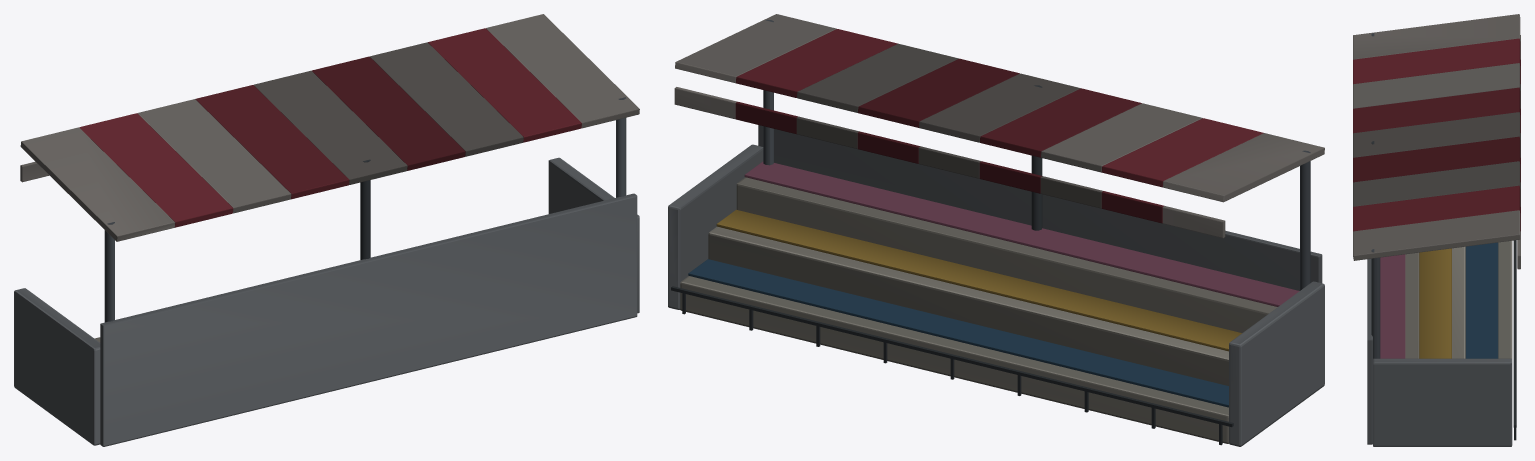
Rendered from grandstand.glb.
The picture shows the model from 3 angles, left to right: view 1: azimuth 30°, elevation 25°; view 2: azimuth 150°, elevation 25°; view 3: azimuth 270°, elevation 25°; orthographic projection. The views are drawn at different scales.
Visible parts, largest first — view 1: grandstand; view 2: grandstand; view 3: grandstand.
Boxes of the visible parts, x1=… form: grandstand: x1=14, y1=14, x2=639, y2=446; grandstand: x1=668, y1=14, x2=1324, y2=446; grandstand: x1=1353, y1=14, x2=1520, y2=446.
Size of the model in its own units: 9.4 by 3.95 by 2.89.
